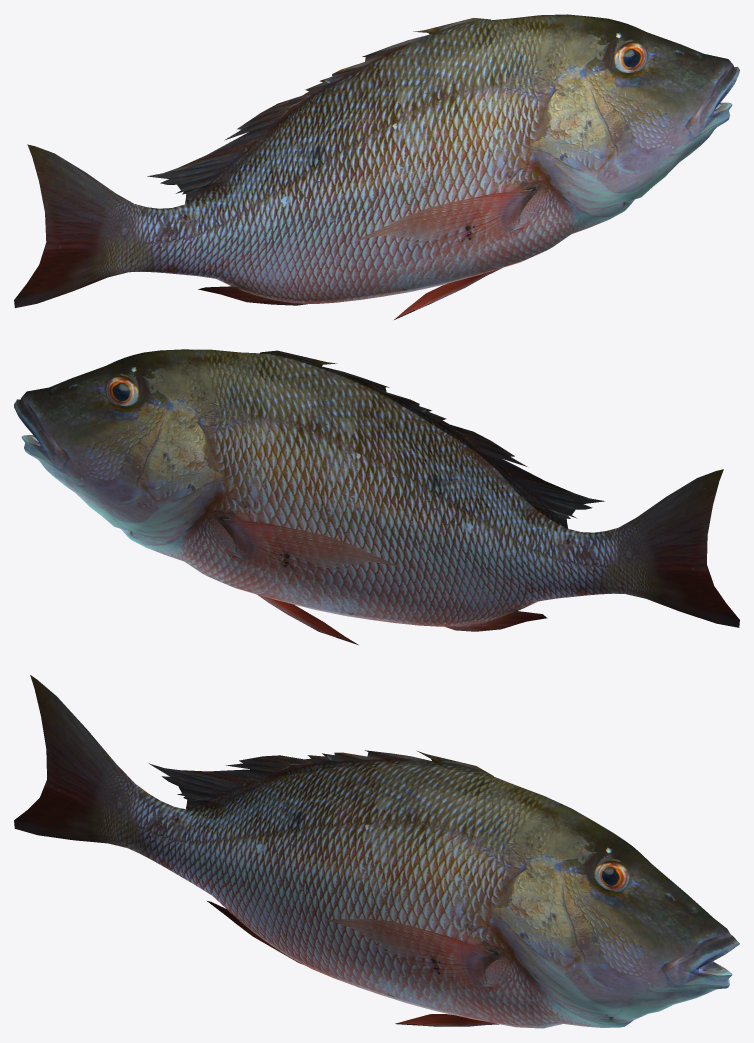
File: fish 1.glb
The picture shows the model from 3 angles, top to bottom: view 1: azimuth 30°, elevation 25°; view 2: azimuth 150°, elevation 25°; view 3: azimuth 330°, elevation 25°; orthographic projection.
Visible parts, largest first — view 1: Line01; view 2: Line01; view 3: Line01.
Boxes of the visible parts, box(x1,y1,x2,y2) form: Line01: box(14, 14, 739, 319); Line01: box(14, 349, 739, 644); Line01: box(14, 675, 739, 1028).
Size of the model in its own units: 12.01 by 4.44 by 1.24.
1 material, 1 textured.
